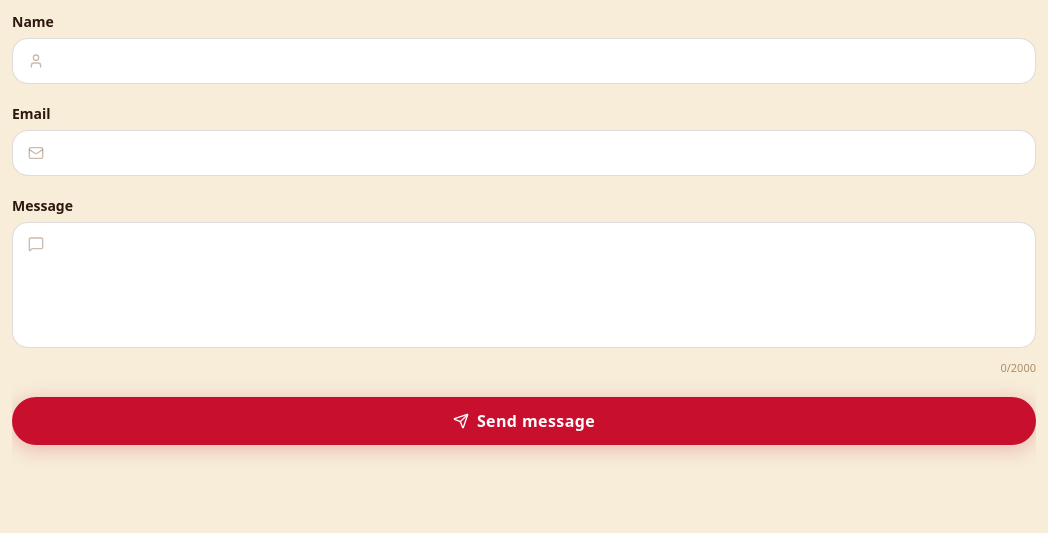
it: ContactForm › shows the backend error message when submission fails
Type "Jane Doe" into the field labelled "Name" at (524, 61), box top-left (12, 38), bottom-right (1036, 84)
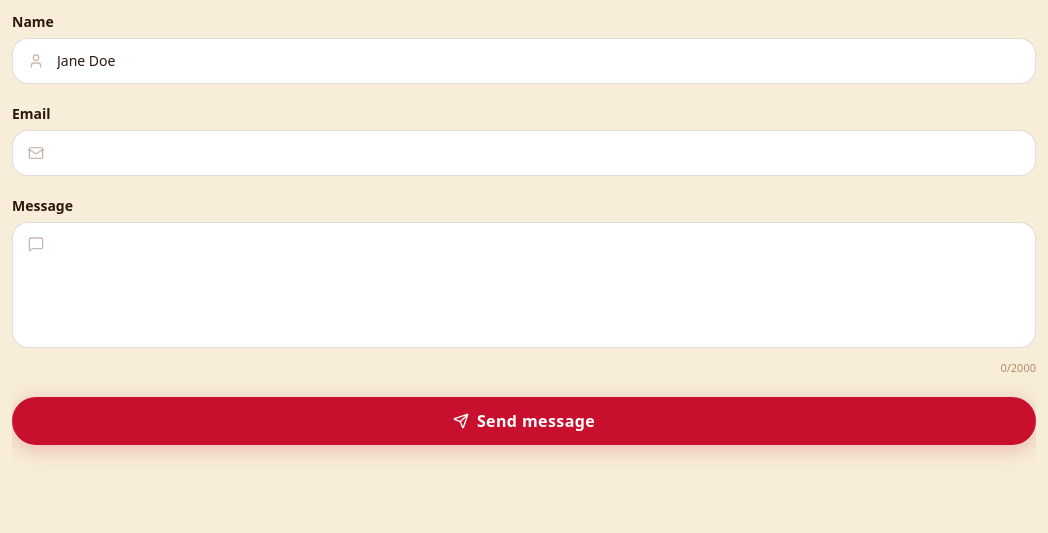
Type "jane@example.com" into the field labelled "Email" at (524, 153), box top-left (12, 130), bottom-right (1036, 176)
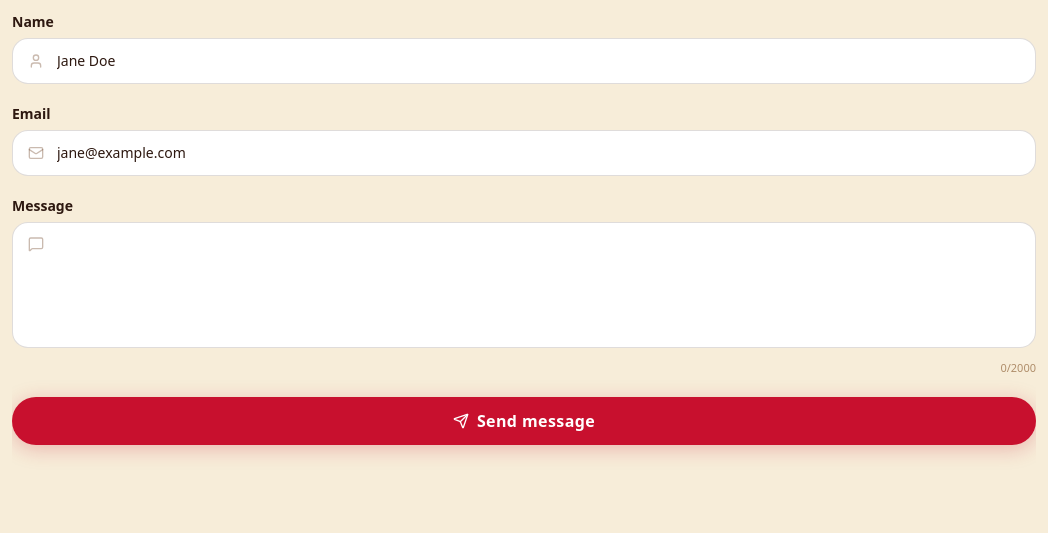
Type "Hello there." into the text box labelled "Message" at (524, 285), box top-left (12, 222), bottom-right (1036, 348)
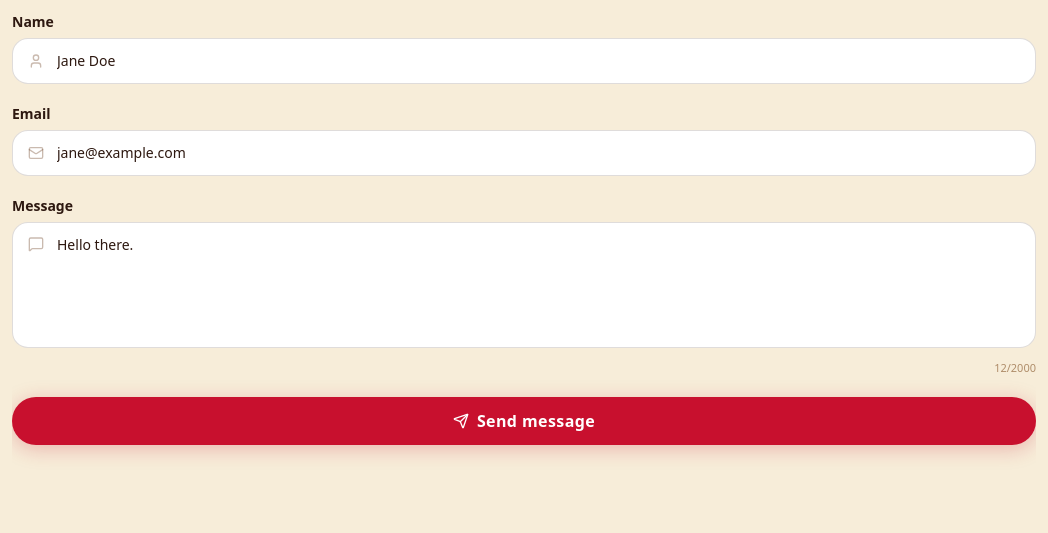
Click the button "Send message" at (524, 420), box top-left (12, 396), bottom-right (1036, 444)
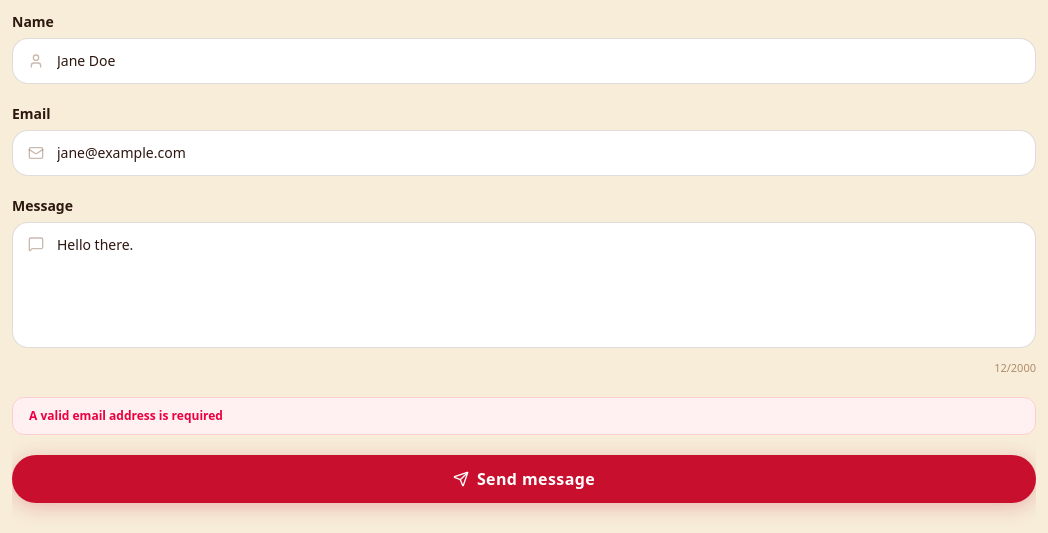
expect the text "A valid email address is required" is shown: met, box top-left (29, 406), bottom-right (223, 424)
